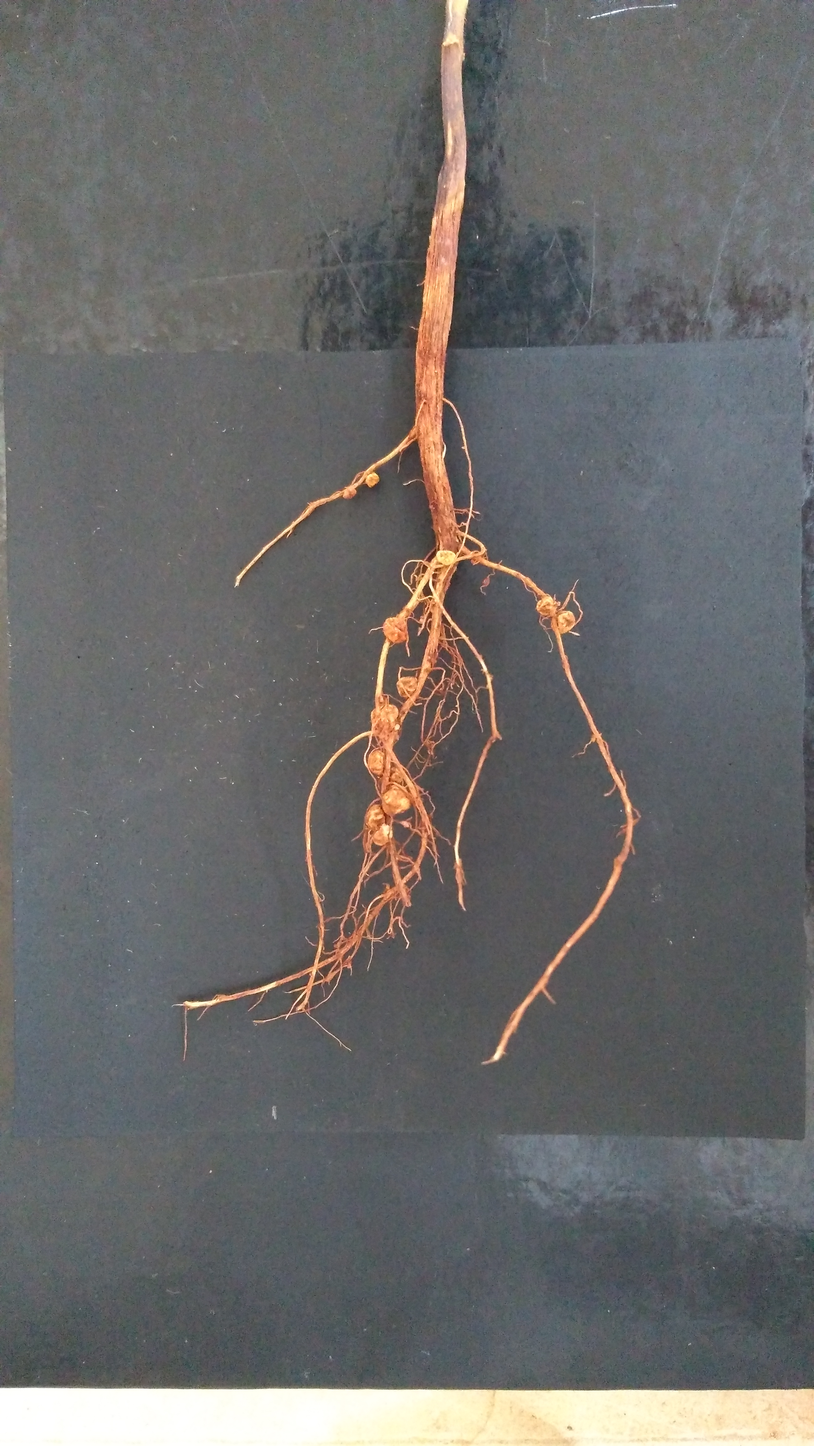nodule: (365, 803, 393, 846), (371, 704, 399, 738), (382, 785, 412, 815), (376, 767, 403, 793), (383, 617, 408, 643), (551, 610, 575, 634), (396, 676, 418, 697), (368, 750, 385, 775), (536, 596, 555, 615), (437, 550, 457, 565), (366, 472, 379, 488), (343, 487, 356, 499)
